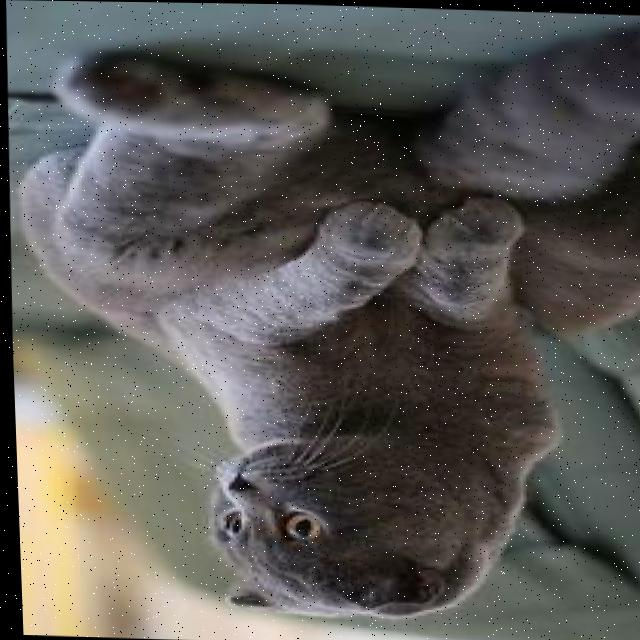Scottish Fold: (0, 8, 640, 630)
